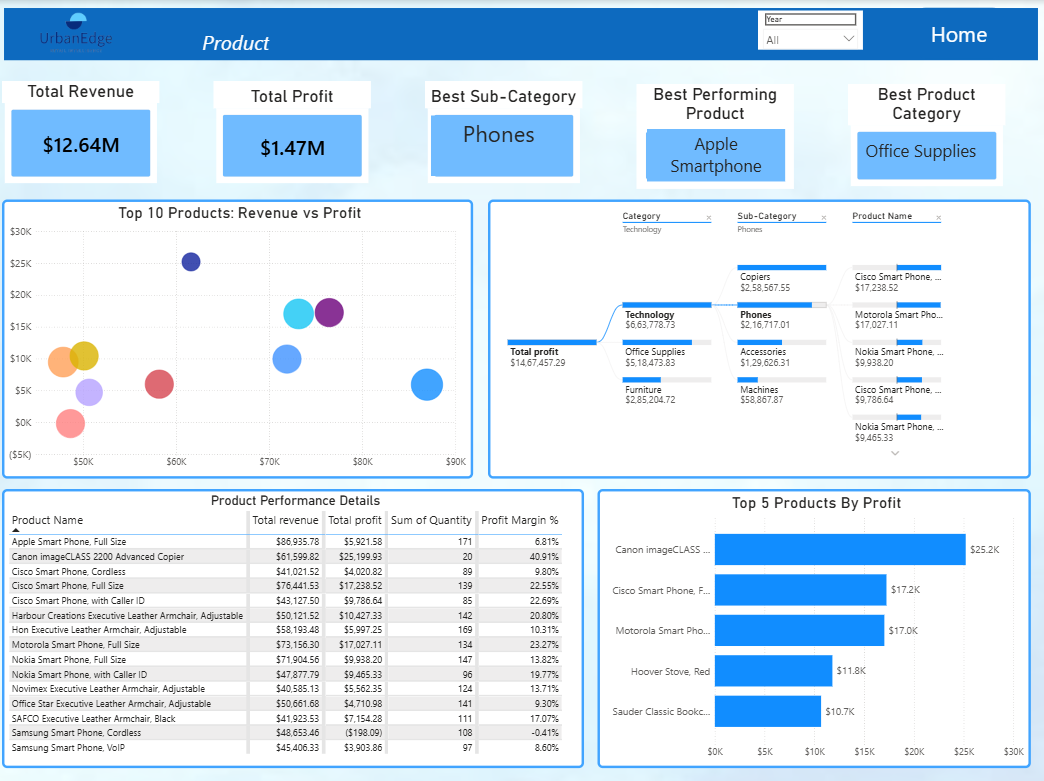

The page's visual inventory and layout, read from the dashboard file:
{"tool":"powerbi","page":{"name":"Product Analysis","canvas":[2000,1500],"ordinal":3},"visuals":[{"type":"shape","box":[0,0,2001.3,114.4],"z":0},{"type":"slicer","fields":{"Values":["Global_Superstore2.Year"]},"box":[1452.4,20,200.1,74.3],"z":1000},{"type":"image","box":[40,0,225.9,134.4],"z":2000},{"type":"actionButton","box":[375.6,40.9,165.5,78.1],"z":3000},{"type":"actionButton","box":[1746.9,14.3,177.3,100.1],"z":4000},{"type":"cardVisual","title":"Best Product Category","fields":{"Data":["Global_Superstore2.Total revenue"]},"box":[1623.9,160.1,300.2,200.1],"z":5000},{"type":"textbox","box":[1652.5,261.4,249,74.7],"z":6000},{"type":"cardVisual","title":"Best Performing Product","fields":{"Data":["Global_Superstore2.Total revenue"]},"box":[1221.1,158.7,300,200],"z":7000},{"type":"textbox","box":[1240.8,245.9,263,100.1],"z":8000},{"type":"cardVisual","title":"Total Revenue","fields":{"Data":["Global_Superstore2.Total revenue"]},"box":[10.9,154.4,300,200],"z":9000},{"type":"cardVisual","title":"Total Profit","fields":{"Data":["Global_Superstore2.Total profit"]},"box":[413.7,155.6,300,200],"z":10000},{"type":"cardVisual","title":"Best Sub-Category","fields":{"Data":["Global_Superstore2.Total profit"]},"box":[816.5,155.6,300,200],"z":11000},{"type":"textbox","box":[827.8,221,258.3,115.1],"z":12000},{"type":"scatterChart","title":"Top 10 Products: Revenue vs Profit","fields":{"X":["Global_Superstore2.Total revenue"],"Y":["Global_Superstore2.Total profit"],"Size":["Count(Global_Superstore2.Quantity)"],"Series":["Global_Superstore2.Product Name"]},"box":[11.4,380.2,897.7,531.8],"z":13000},{"type":"clusteredBarChart","title":"Top 5 Products By Profit","fields":{"Y":["Global_Superstore2.Total profit"],"Category":["Global_Superstore2.Product Name"]},"box":[1146.5,932,826.3,531.8],"z":14000},{"type":"tableEx","title":"Product Performance Details","fields":{"Values":["Global_Superstore2.Product Name","Global_Superstore2.Total revenue","Global_Superstore2.Total profit","Sum(Global_Superstore2.Quantity)","Global_Superstore2.Profit Margin %"]},"box":[11.4,932,1109.3,531.8],"z":15000},{"type":"decompositionTreeVisual","fields":{"Analyze":["Global_Superstore2.Total profit"],"ExplainBy":["Global_Superstore2.Category","Global_Superstore2.Sub-Category","Global_Superstore2.Product Name"]},"box":[937.8,380.2,1035,531.8],"z":16000}]}

Visuals, with their boxes in screenshot pixels (x1, y1, x2, y2), scaled from the page's 2000x1500 canvas onto the 1044x781 screenshot:
shape: [x1=0, y1=0, x2=1043, y2=60]
slicer - Global_Superstore2.Year: [x1=758, y1=10, x2=863, y2=49]
image: [x1=21, y1=0, x2=139, y2=70]
actionButton: [x1=196, y1=21, x2=282, y2=62]
actionButton: [x1=912, y1=7, x2=1004, y2=60]
"Best Product Category" cardVisual: [x1=848, y1=83, x2=1004, y2=188]
textbox: [x1=863, y1=136, x2=993, y2=175]
"Best Performing Product" cardVisual: [x1=637, y1=83, x2=794, y2=187]
textbox: [x1=648, y1=128, x2=785, y2=180]
"Total Revenue" cardVisual: [x1=6, y1=80, x2=162, y2=185]
"Total Profit" cardVisual: [x1=216, y1=81, x2=373, y2=185]
"Best Sub-Category" cardVisual: [x1=426, y1=81, x2=583, y2=185]
textbox: [x1=432, y1=115, x2=567, y2=175]
"Top 10 Products: Revenue vs Profit" scatterChart: [x1=6, y1=198, x2=475, y2=475]
"Top 5 Products By Profit" clusteredBarChart: [x1=598, y1=485, x2=1030, y2=762]
"Product Performance Details" tableEx: [x1=6, y1=485, x2=585, y2=762]
decompositionTreeVisual - Global_Superstore2.Total profit x Global_Superstore2.Category: [x1=490, y1=198, x2=1030, y2=475]
